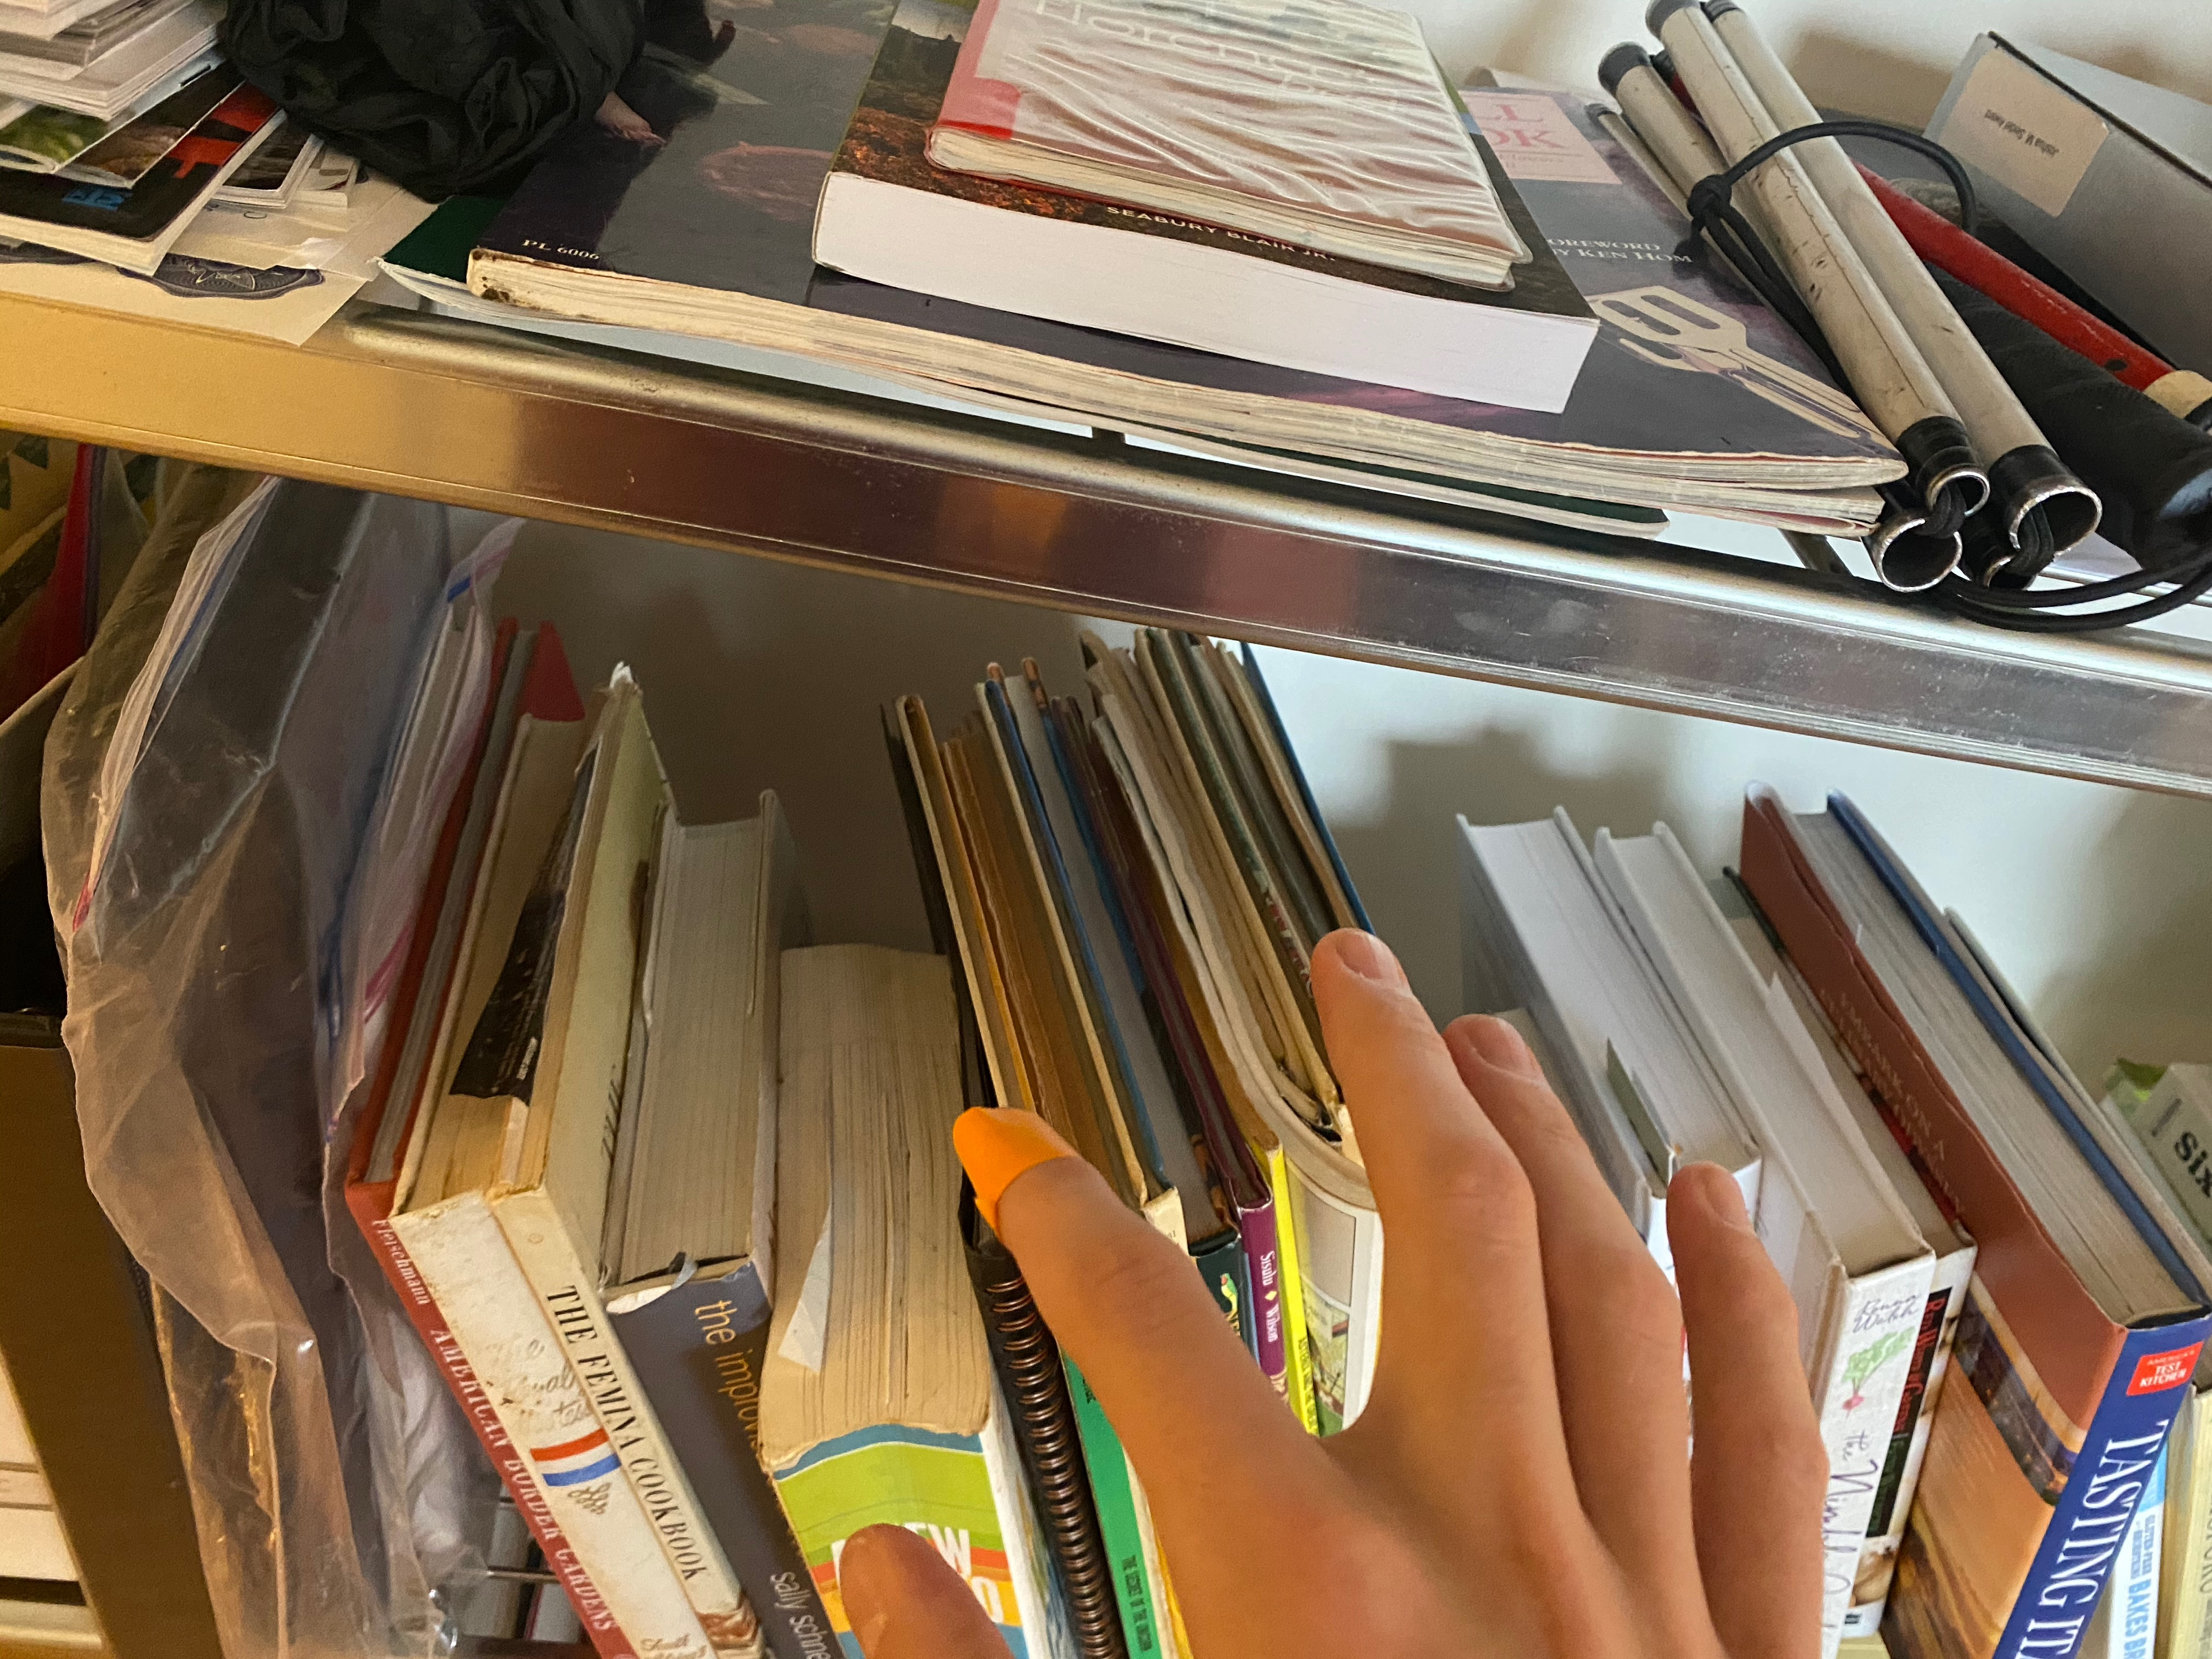fingertip: (914, 1098, 1143, 1237)
